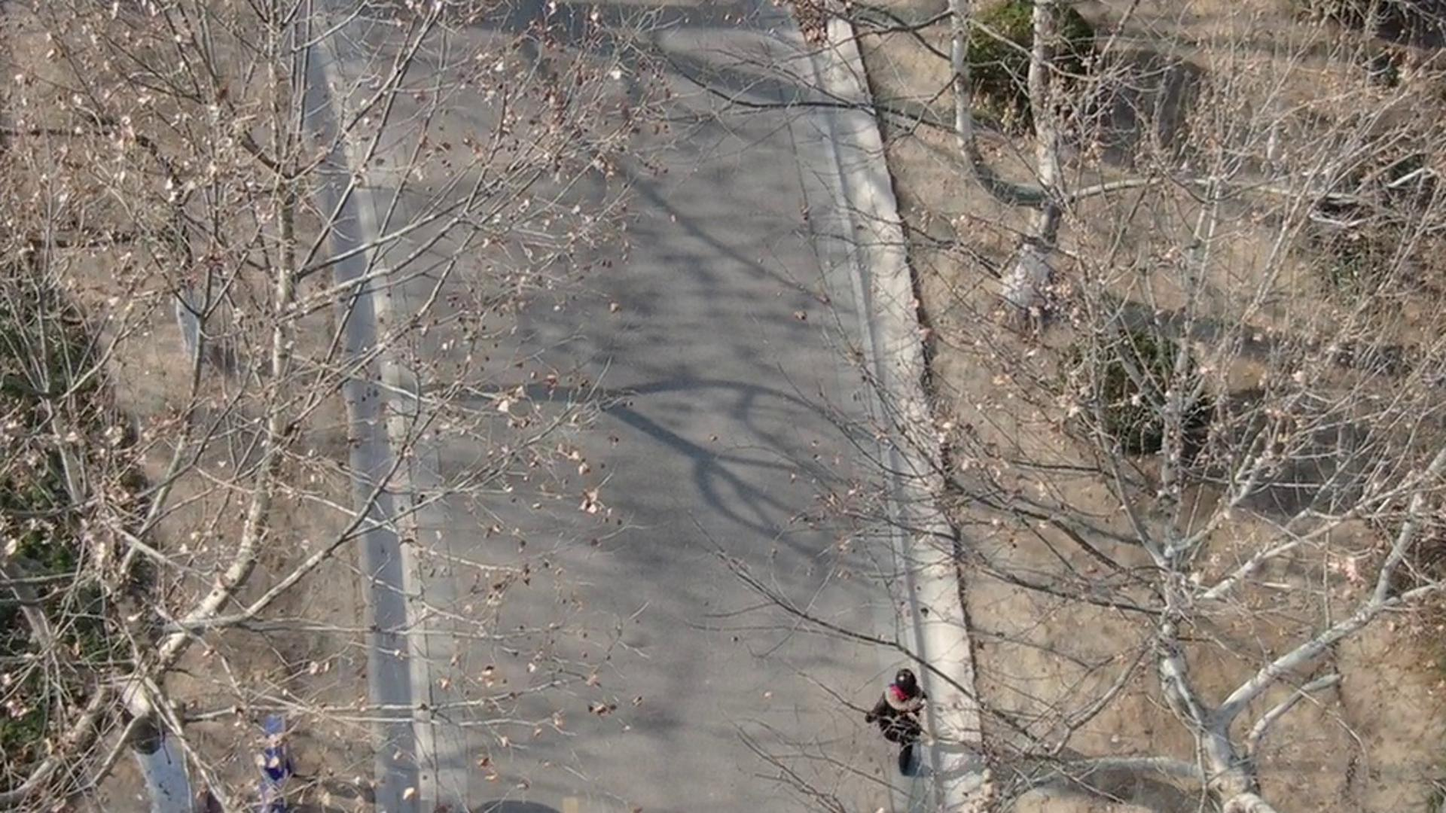human: (884, 657, 929, 766)
